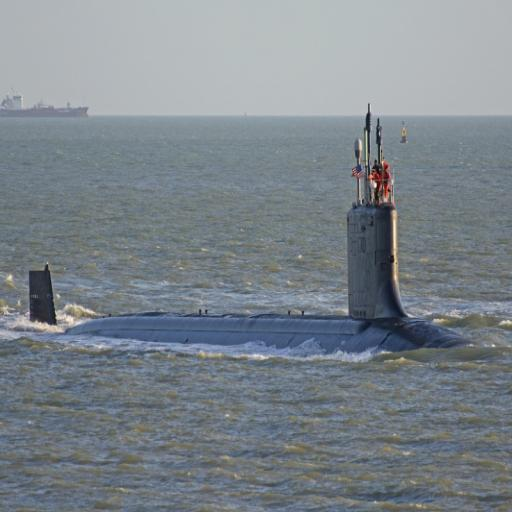submarine: (27, 205, 485, 359)
